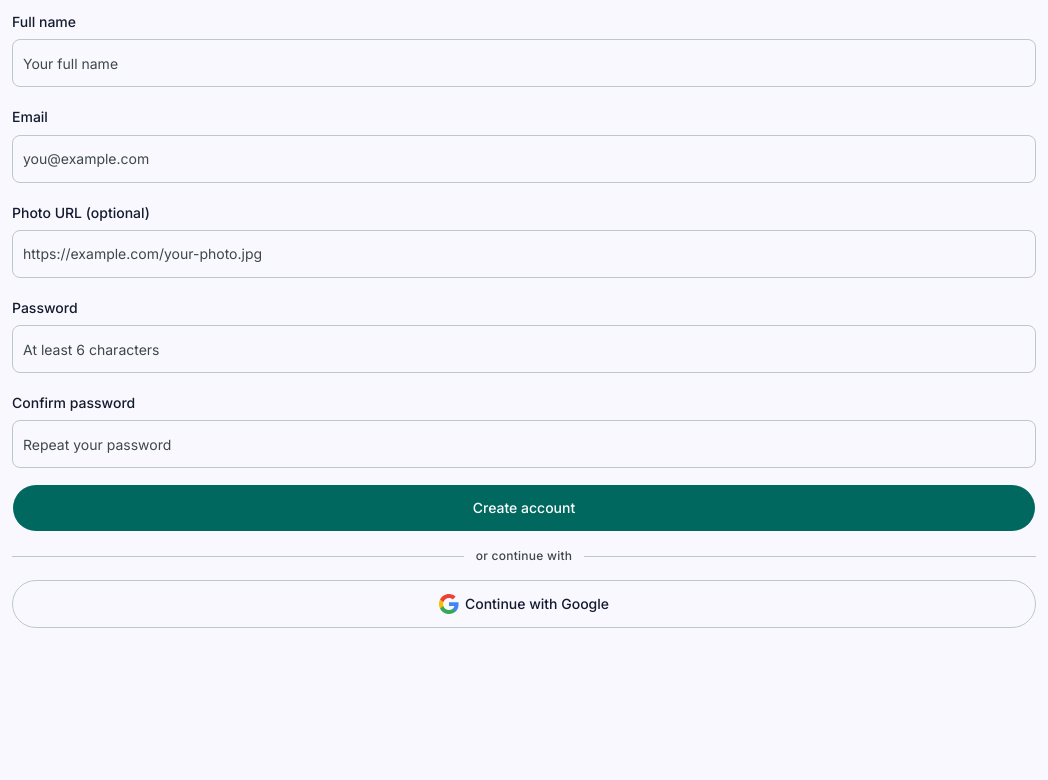
Test case: RegisterForm › shows an inline error when passwords do not match
The image size is (1048, 780).
Type "Rifat Hossain" into the field labelled "Full name" at (524, 63), box [12,39,1036,87]
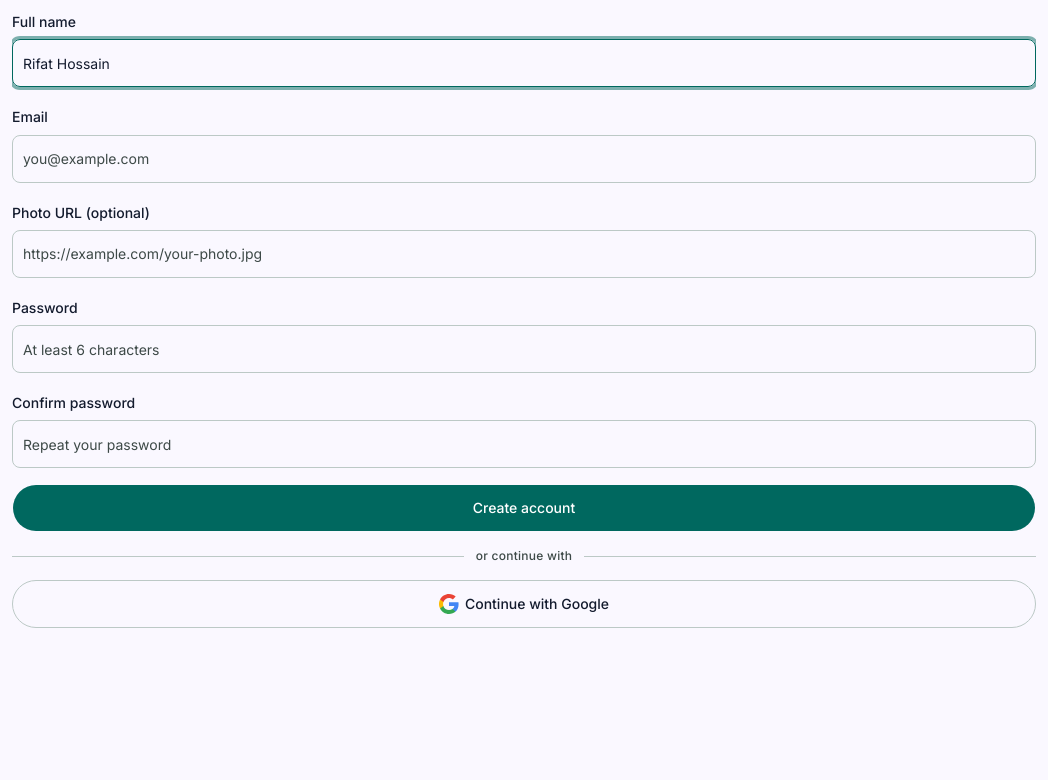
Type "rifat@example.com" into the field labelled "Email" at (524, 158), box [12,134,1036,182]
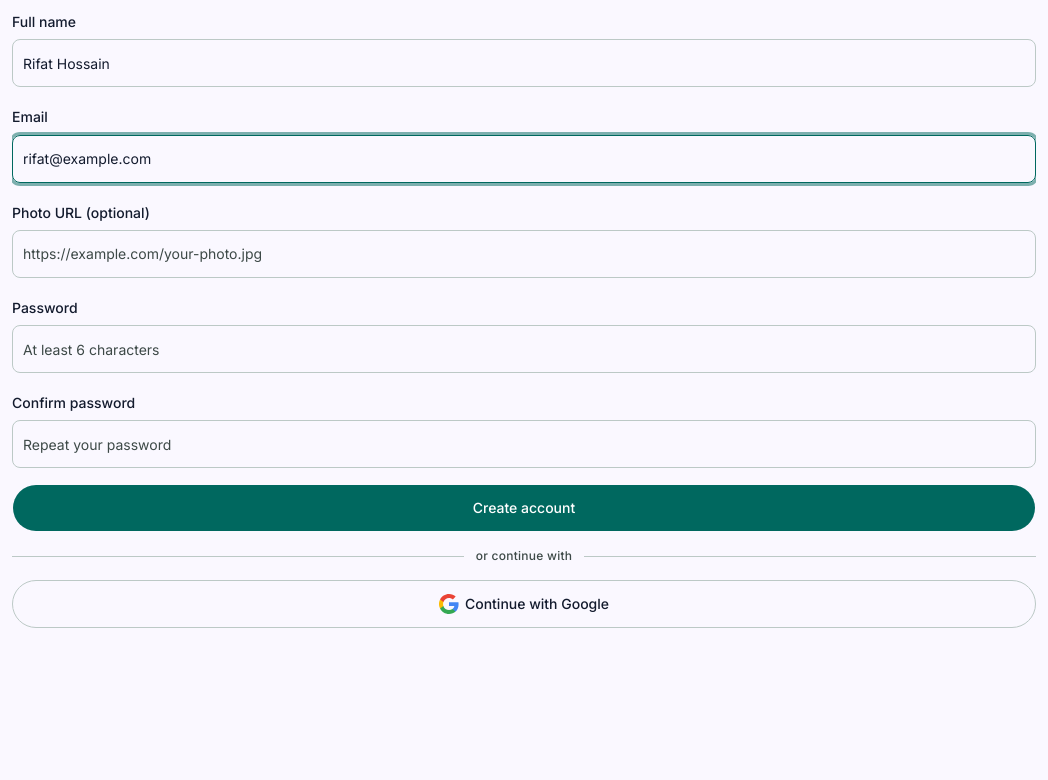
Type "https://i.ibb.co/me.jpg" into the field labelled "Photo URL (optional)" at (524, 254), box [12,230,1036,278]
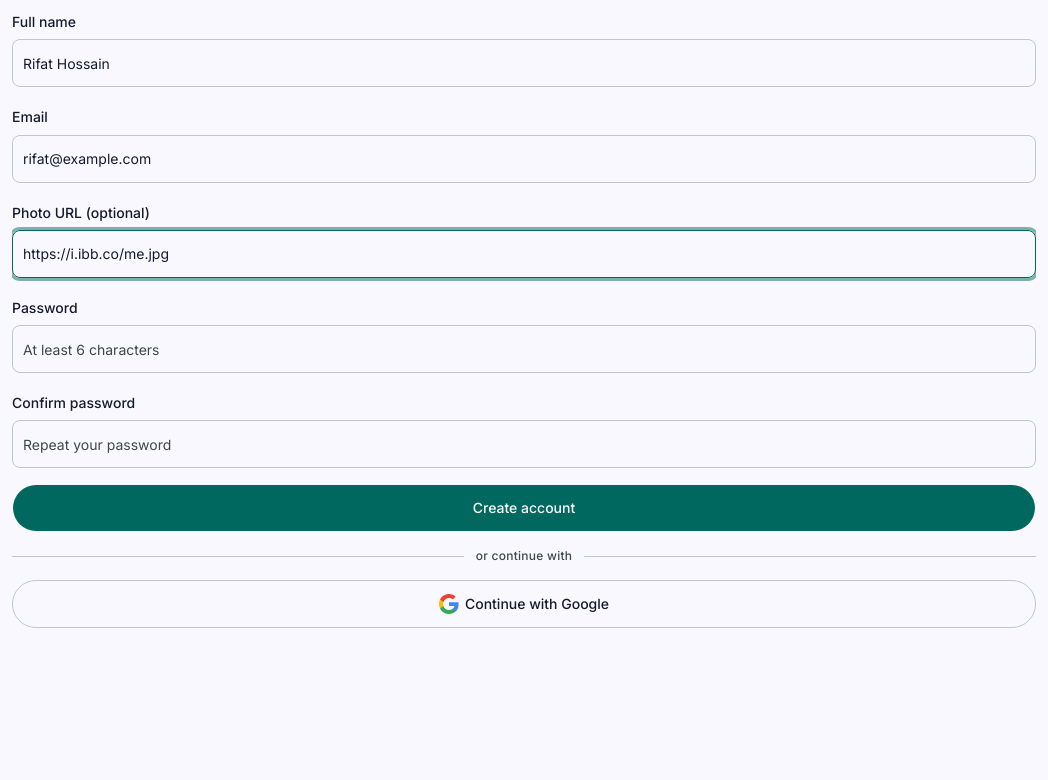
Type "Secret1" into the password field labelled "Password" at (524, 349), box [12,325,1036,373]
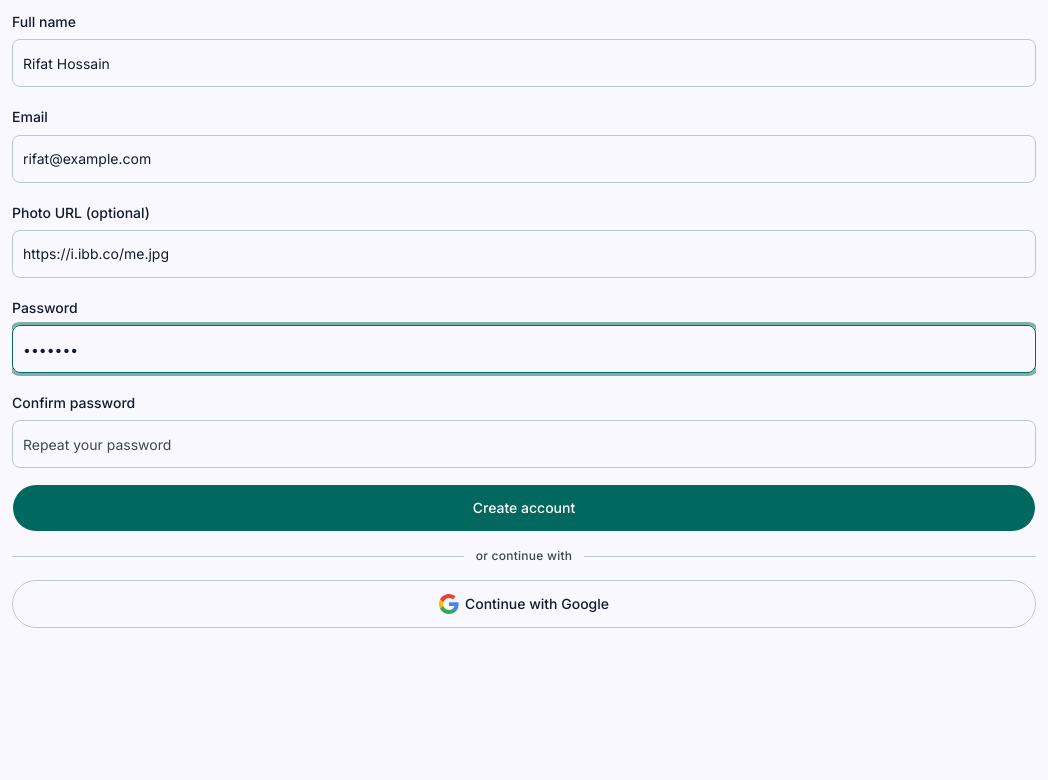
Type "Secret2" into the password field labelled "Confirm password" at (524, 444), box [12,420,1036,468]
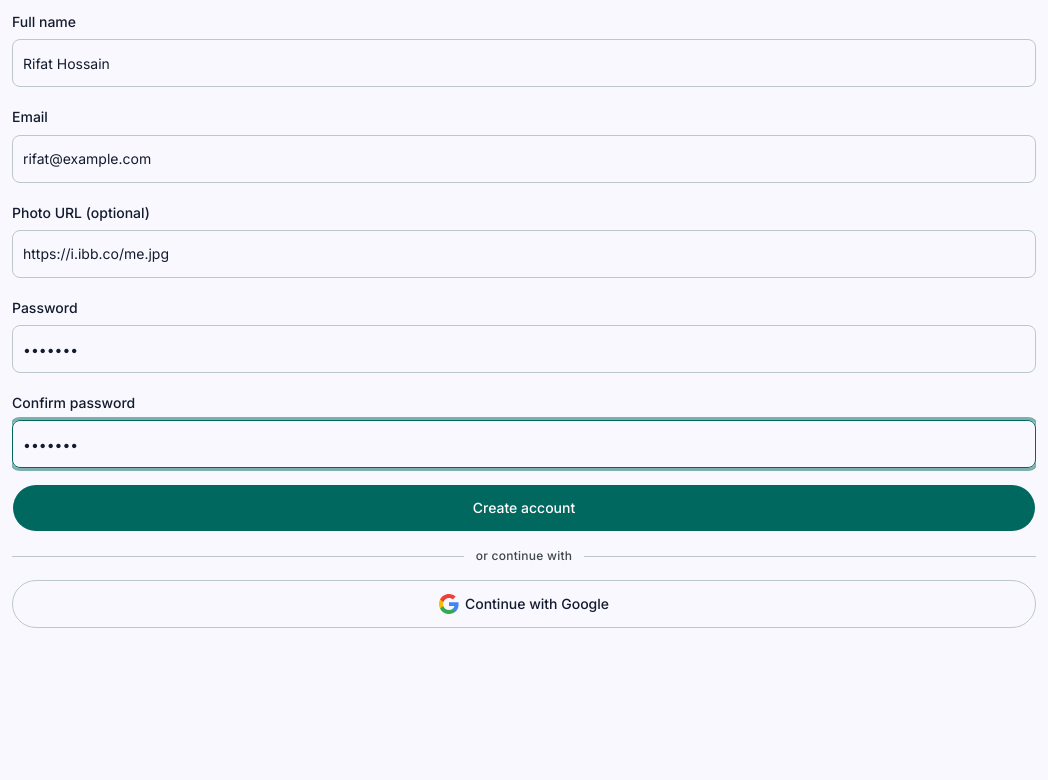
Click the button "Create account" at (524, 508), box [12,484,1036,532]
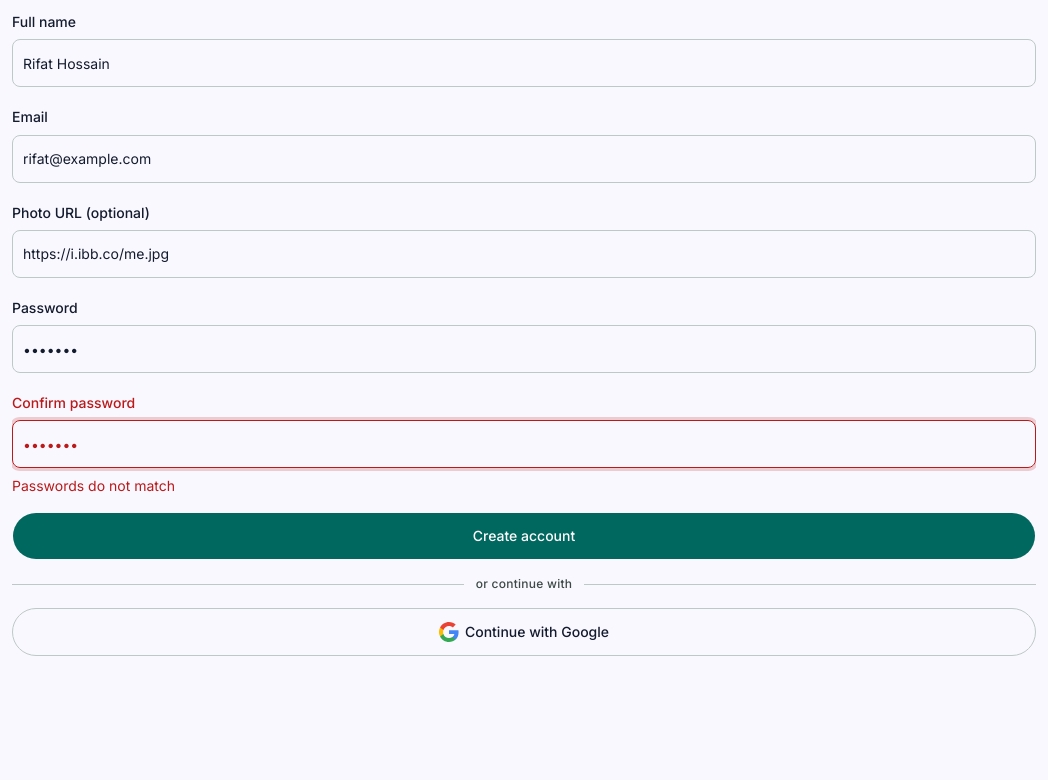
Expected: the text "Passwords do not match" is shown, [12,477,175,494]
